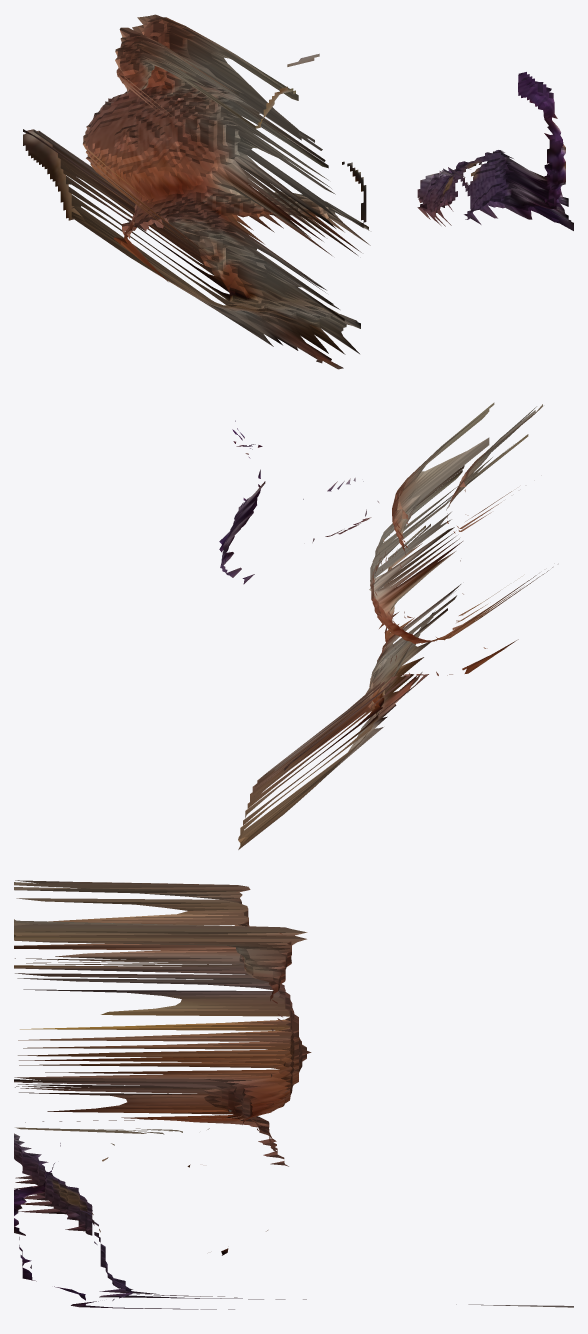
File: frame_00324.glb
3 renders of one model, top to bottom at view 1: azimuth 30°, elevation 25°; view 2: azimuth 150°, elevation 25°; view 3: azimuth 270°, elevation 25°, orthographic. The views are drawn at different scales.
Visible parts, largest first — view 1: geometry_0; view 2: geometry_0; view 3: geometry_0.
Part boxes in pixels (x1=…): geometry_0: x1=23, y1=14, x2=573, y2=369; geometry_0: x1=219, y1=402, x2=552, y2=849; geometry_0: x1=14, y1=880, x2=573, y2=1309.
Size of the model in its own units: 0.1357 by 0.1164 by 0.16.
Materials: 1 (1 with a texture image).
